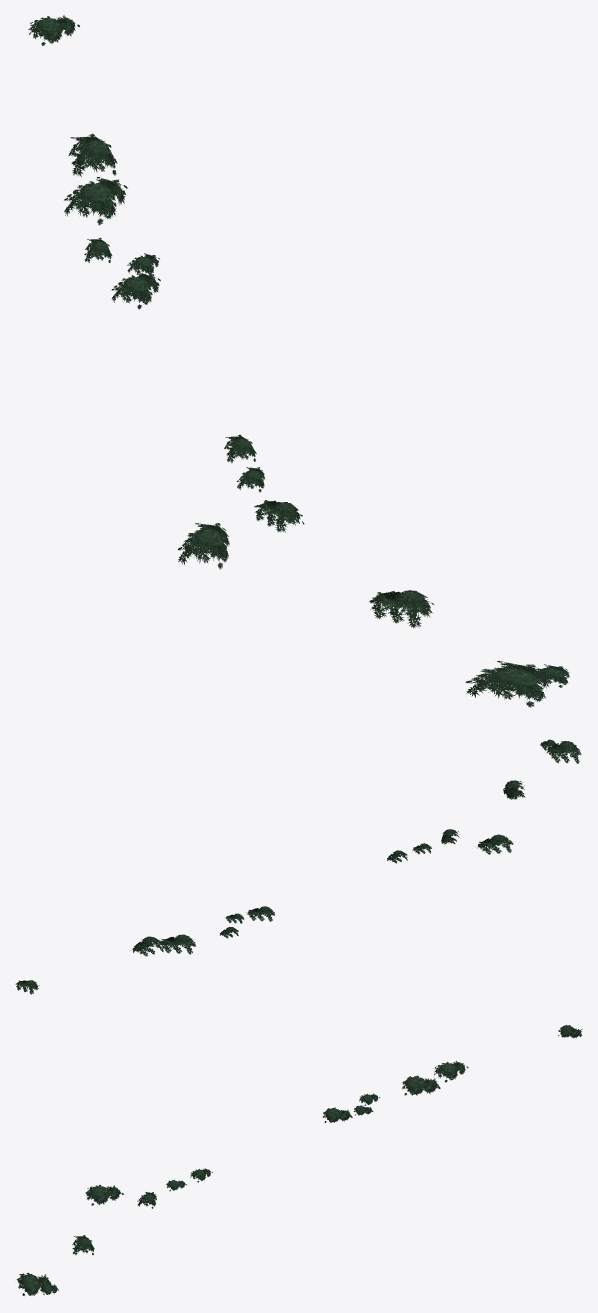
Rendered from zhibei02.fbx.
3 views of the same model, one above another, from view 1: azimuth 30°, elevation 25°; view 2: azimuth 150°, elevation 25°; view 3: azimuth 330°, elevation 25° (orthographic). The views are drawn at different scales.
Visible parts, largest first — view 1: zhibei02; view 2: zhibei02; view 3: zhibei02.
Boxes of the visible parts, left/top/right/bottom form: zhibei02: left=28, top=15, right=569, bottom=707; zhibei02: left=15, top=739, right=581, bottom=994; zhibei02: left=16, top=1025, right=582, bottom=1295.
Size of the model in its own units: 3489 by 418 by 10715.
